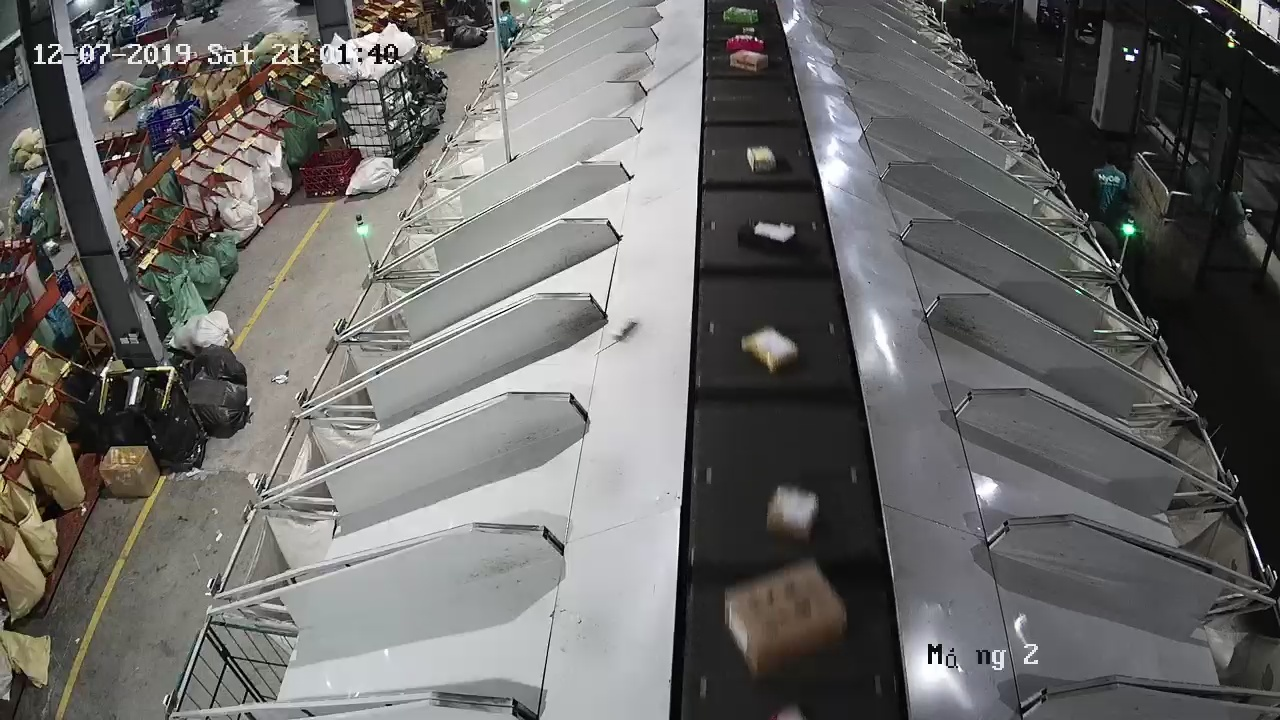parcel: (609, 316, 635, 341)
